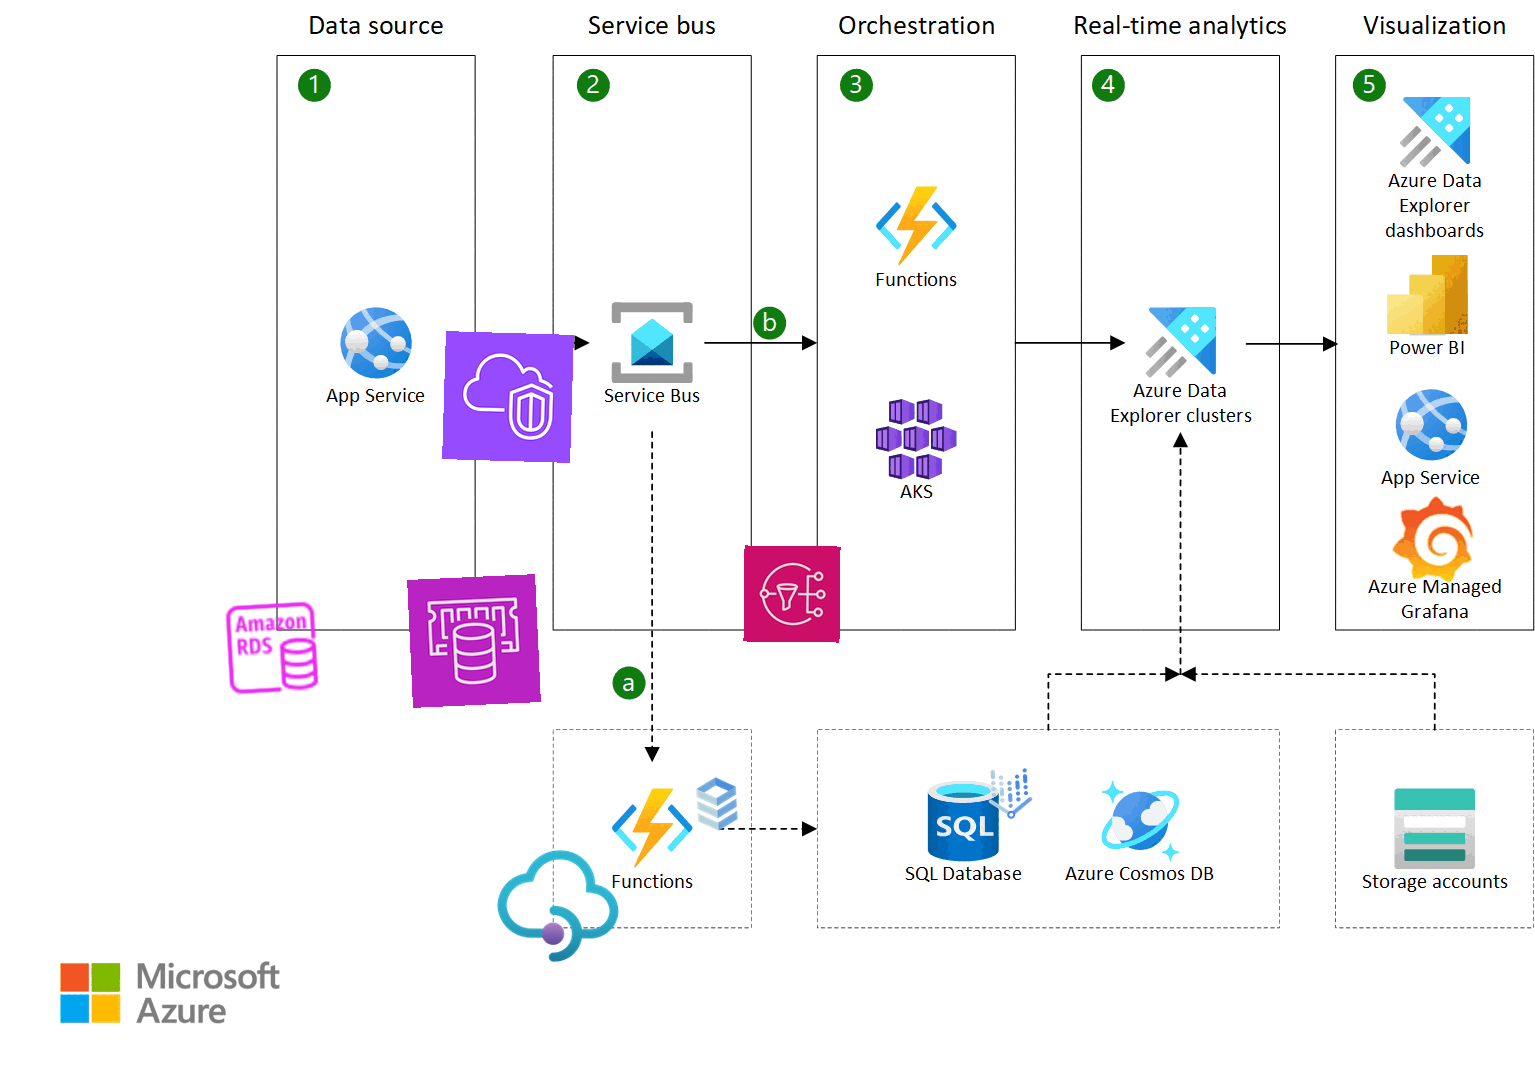aws_amazon_elasticache: (407, 574, 541, 708)
aws_amazon_simple_notification_service: (743, 545, 841, 643)
aws_amazon_virtual_private_cloud: (442, 331, 574, 463)
aws_aurora_amazon_rds_instance: (221, 597, 323, 699)
azure_api_management_services: (493, 842, 623, 970)
gcp_cloud_sql: (683, 770, 751, 838)
gcp_vertex_ai: (976, 760, 1044, 827)
